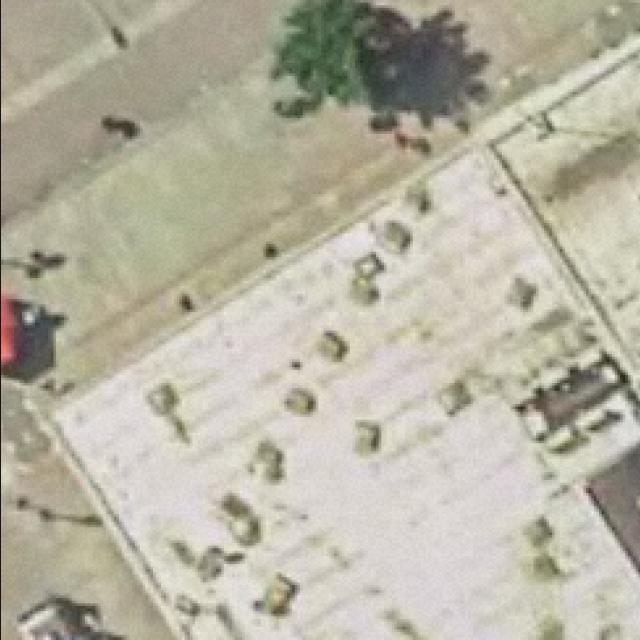vendedor_ambulante: (0, 288, 24, 378)
